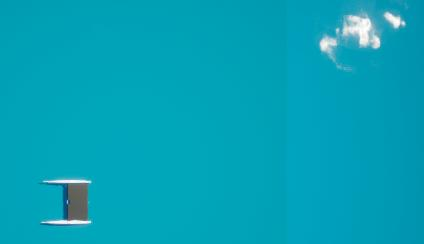boat: (41, 178, 93, 228)
drone: (68, 183, 88, 219)
land_base: (300, 2, 421, 83)
